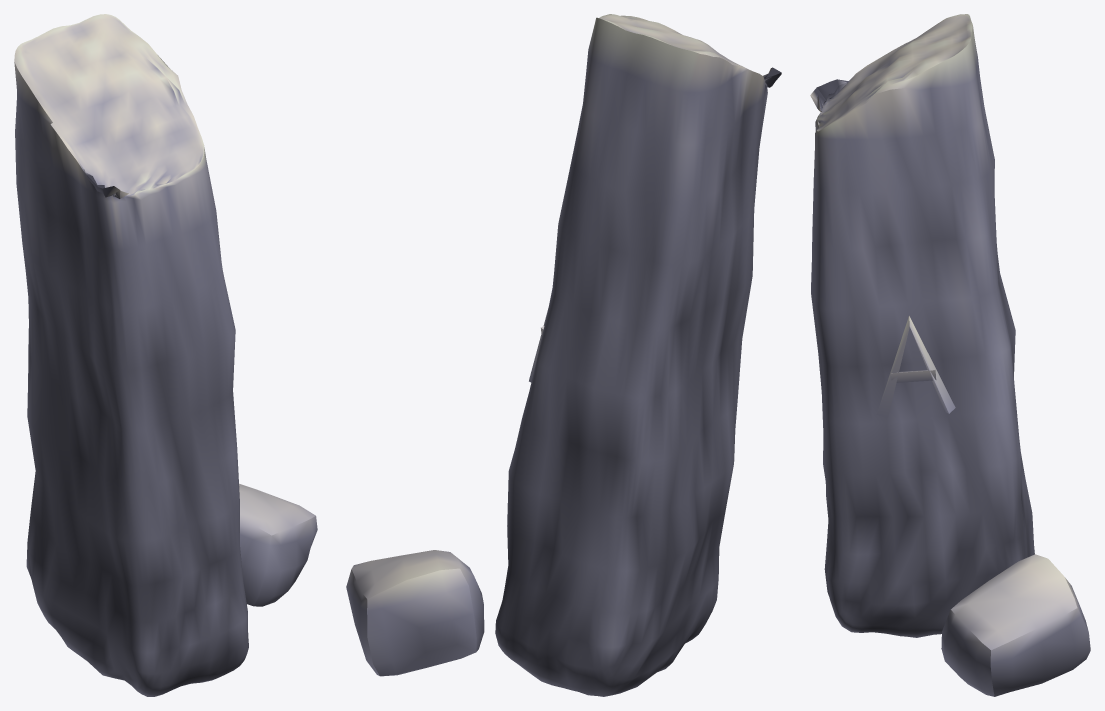
Rendered from ruin.glb.
The picture shows the model from 3 angles, left to right: view 1: azimuth 30°, elevation 25°; view 2: azimuth 150°, elevation 25°; view 3: azimuth 270°, elevation 25°; orthographic projection. The views are drawn at different scales.
Visible parts, largest first — view 1: ruin; view 2: ruin; view 3: ruin.
Part boxes in pixels (x1,y1,x2,y2): ruin: [14, 14, 317, 696]; ruin: [346, 14, 781, 696]; ruin: [810, 14, 1090, 696].
Size of the model in its own units: 1.21 by 2.28 by 1.01.
